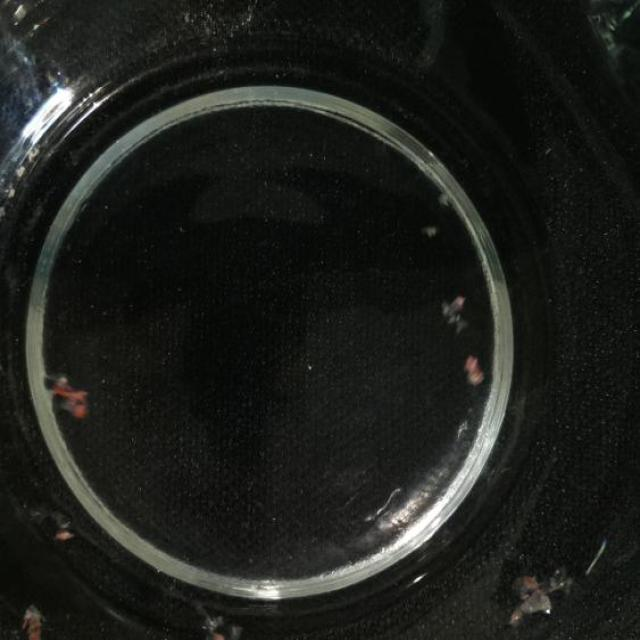fiber: (505, 571, 553, 632), (40, 367, 91, 421), (45, 515, 86, 552), (15, 599, 51, 640), (442, 292, 476, 332), (197, 614, 244, 640), (468, 357, 485, 388), (423, 220, 440, 237), (440, 195, 454, 205)
